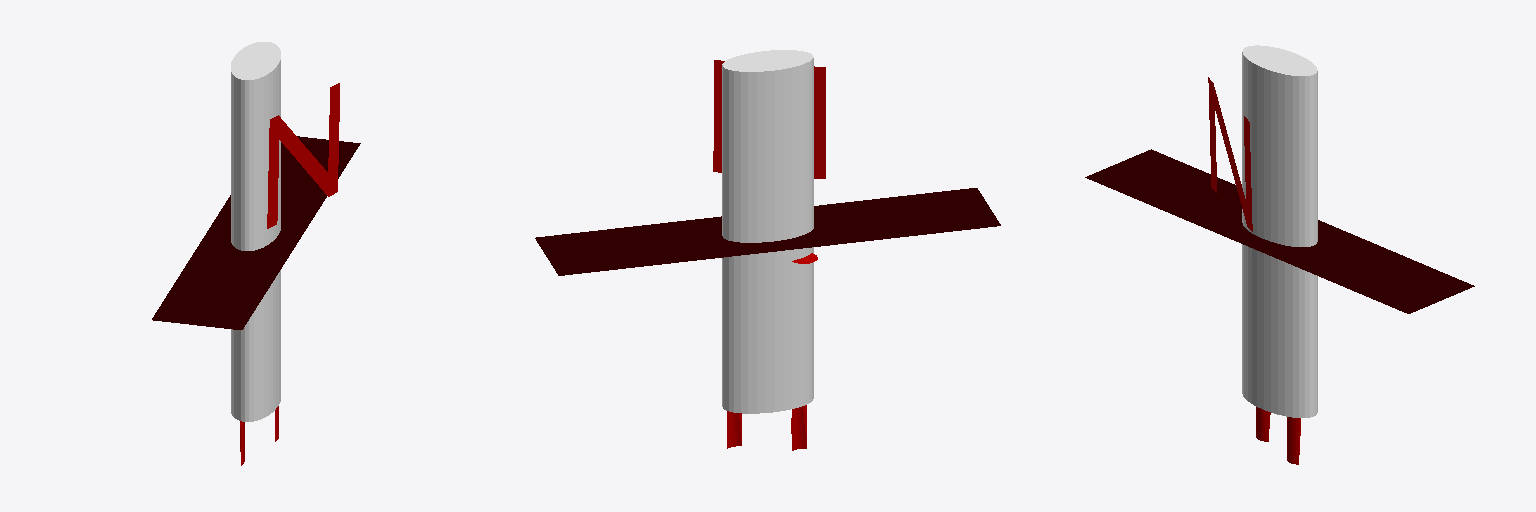
The model's file is craft2.obj.
The picture shows the model from 3 angles: view 1: azimuth 30°, elevation 25°; view 2: azimuth 150°, elevation 25°; view 3: azimuth 270°, elevation 25°; orthographic projection.
Parts seen in each view (by area): view 1: Cylinder, Plane, N; view 2: Cylinder, Plane, N, Cylinder.001; view 3: Cylinder, Plane, N, Cylinder.001.
Part boxes in pixels (x1,y1,x2,y2): Cylinder: (231,42,280,421); Plane: (152,136,360,329); N: (267,83,339,228); Cylinder: (722,50,813,413); Plane: (535,188,1000,275); N: (713,60,825,178); Cylinder.001: (727,253,817,450); Cylinder: (1242,45,1317,417); Plane: (1085,149,1474,313); N: (1208,77,1252,231); Cylinder.001: (1256,407,1300,464).
Size of the model in its own units: 8.29 by 9.13 by 8.29.